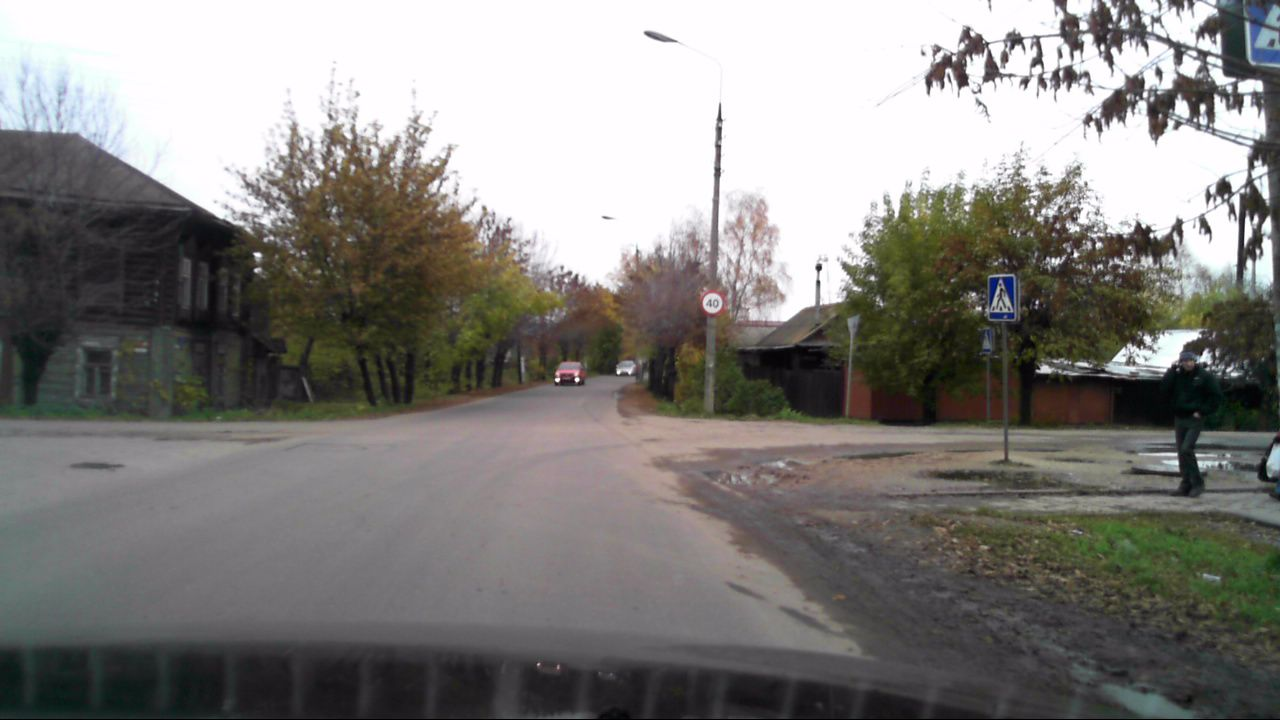speed_warning_40: (699, 291, 725, 316)
